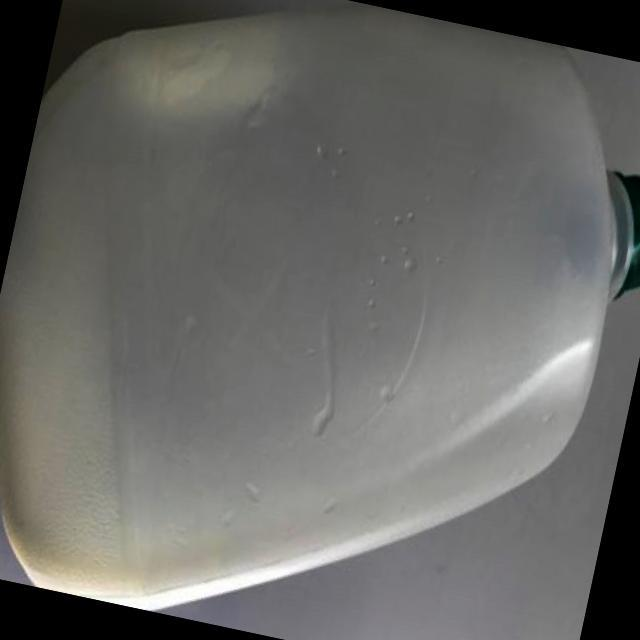HDPE Plastic: (2, 12, 640, 614)
